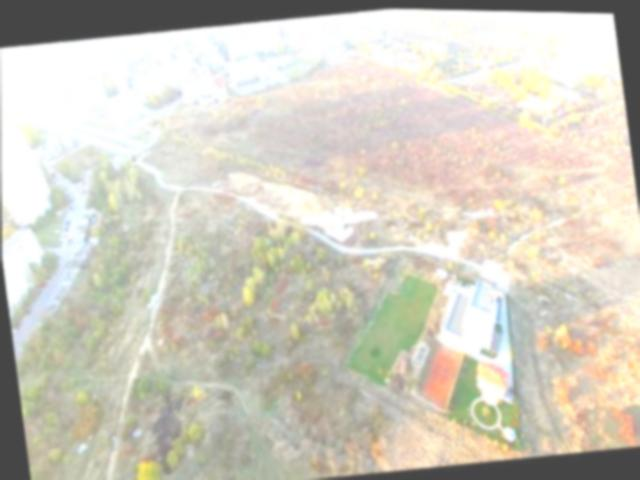uav: (290, 189, 389, 252)
